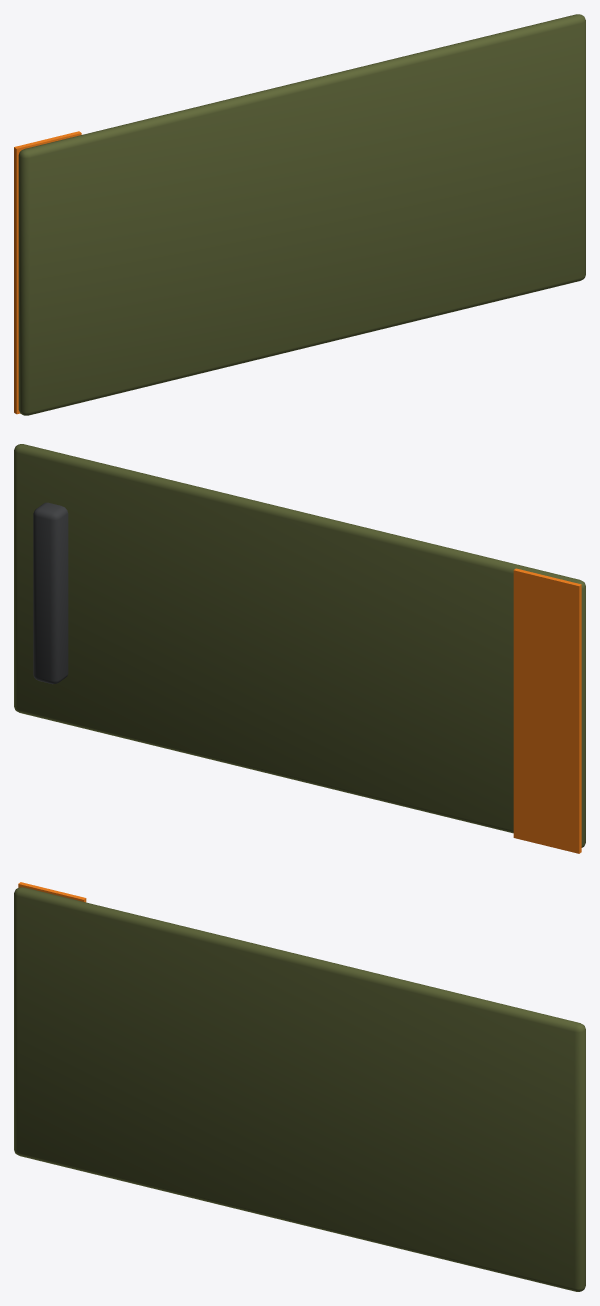
File: puff_bow_left.glb
The picture shows the model from 3 angles, top to bottom: view 1: azimuth 30°, elevation 25°; view 2: azimuth 150°, elevation 25°; view 3: azimuth 330°, elevation 25°; orthographic projection.
Visible parts, largest first — view 1: puff_bow_left; view 2: puff_bow_left; view 3: puff_bow_left.
Part boxes in pixels (box(x1,y1,x2,y2)): puff_bow_left: box(14, 14, 585, 415); puff_bow_left: box(14, 444, 585, 853); puff_bow_left: box(14, 882, 585, 1291).
Bounding box in the file's own units: 0.312 × 0.14 × 0.018.
